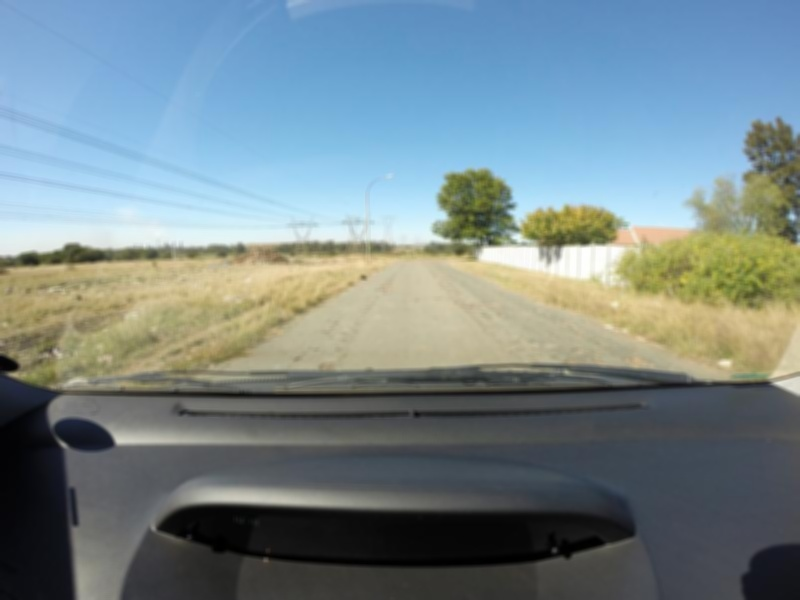pothole: (625, 347, 651, 366), (520, 334, 541, 347), (565, 355, 587, 367), (318, 359, 341, 369), (552, 314, 575, 324), (459, 303, 486, 307), (379, 283, 393, 290), (571, 347, 587, 351), (291, 356, 303, 359)
